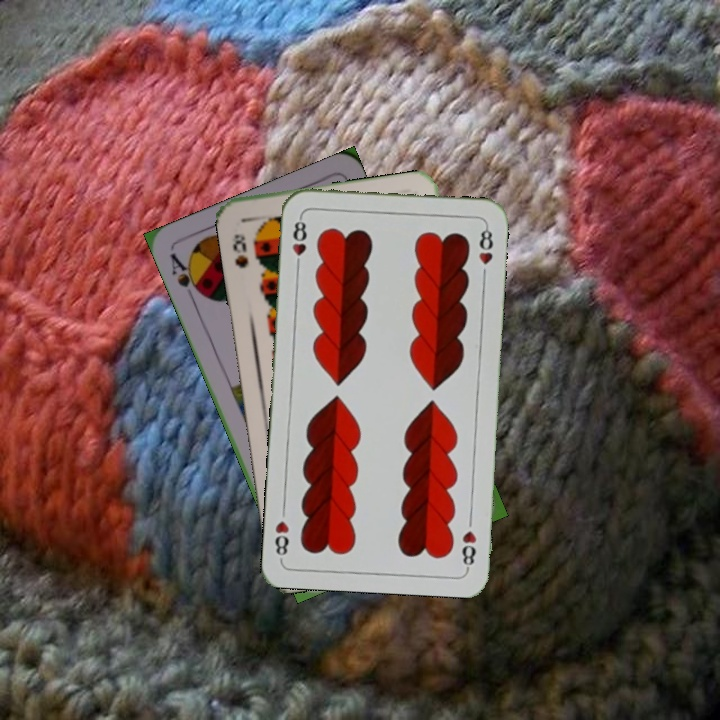H8: (288, 213, 309, 272), (458, 526, 479, 571)
S8: (228, 229, 251, 271)
SA: (166, 248, 206, 304)
